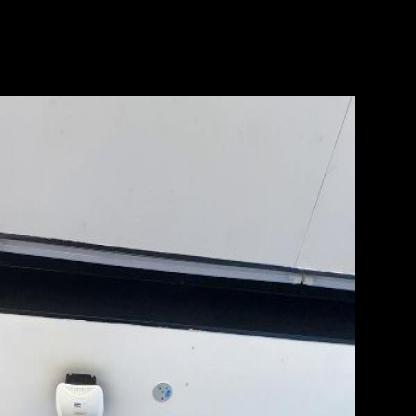light_off: (0, 154, 355, 331)
